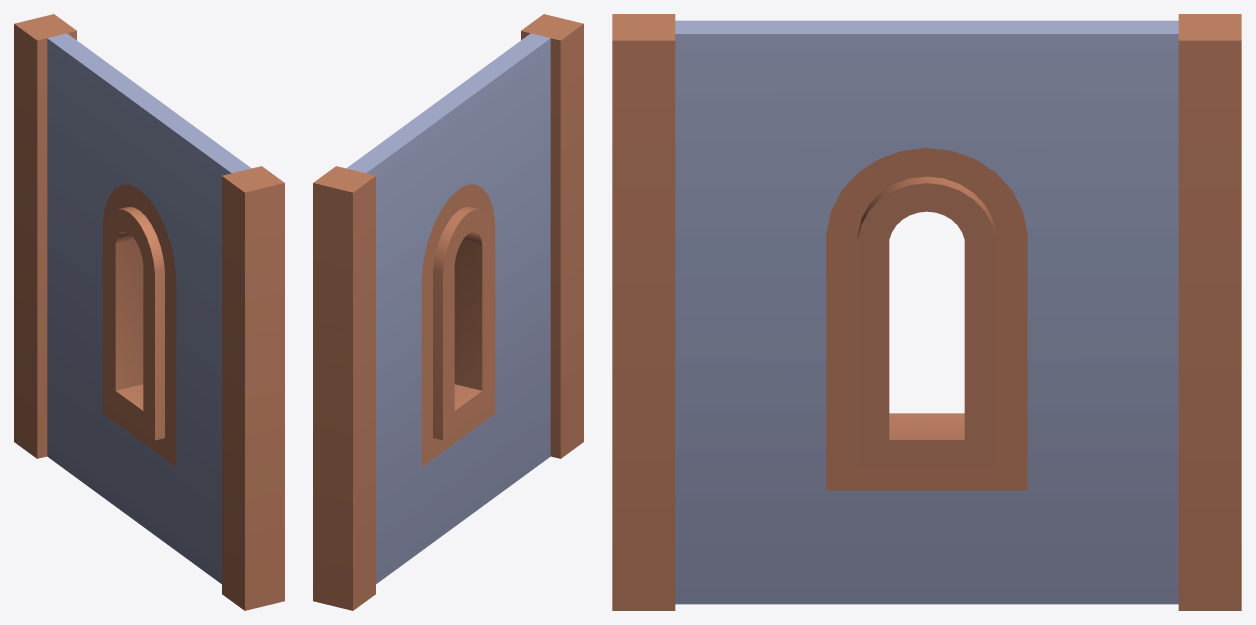
Rendered from wall-window-round.glb.
3 renders of one model, left to right at view 1: azimuth 30°, elevation 25°; view 2: azimuth 150°, elevation 25°; view 3: azimuth 270°, elevation 25°, orthographic. The views are drawn at different scales.
Parts seen in each view (by area): view 1: wall-window-round; view 2: wall-window-round; view 3: wall-window-round.
Part boxes in pixels (left/top/right/bottom): wall-window-round: left=14, top=14, right=284, bottom=610; wall-window-round: left=313, top=14, right=583, bottom=610; wall-window-round: left=612, top=14, right=1241, bottom=610.
Size of the model in its own units: 0.1 by 1 by 1.
1 material, 1 textured.
